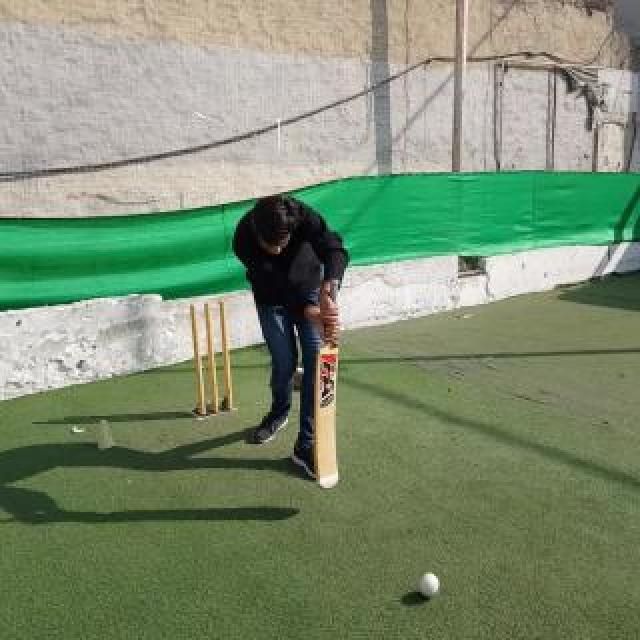ball: (418, 572, 440, 598)
bat: (312, 278, 340, 488)
